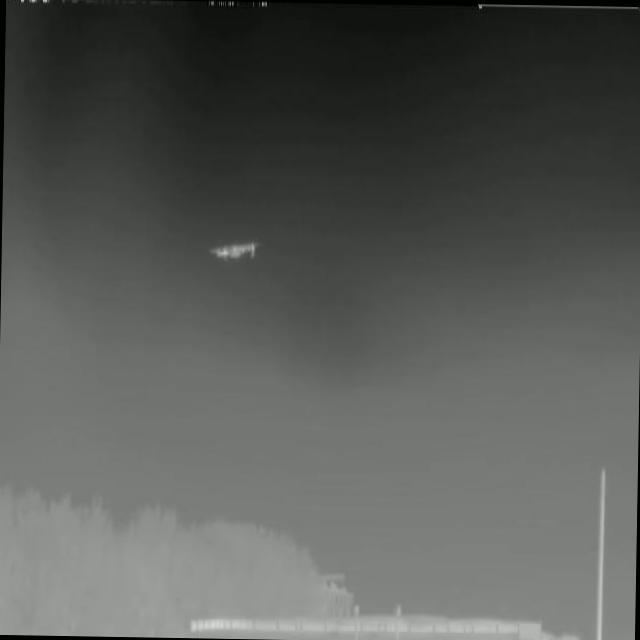DRONE: (198, 228, 268, 272)
